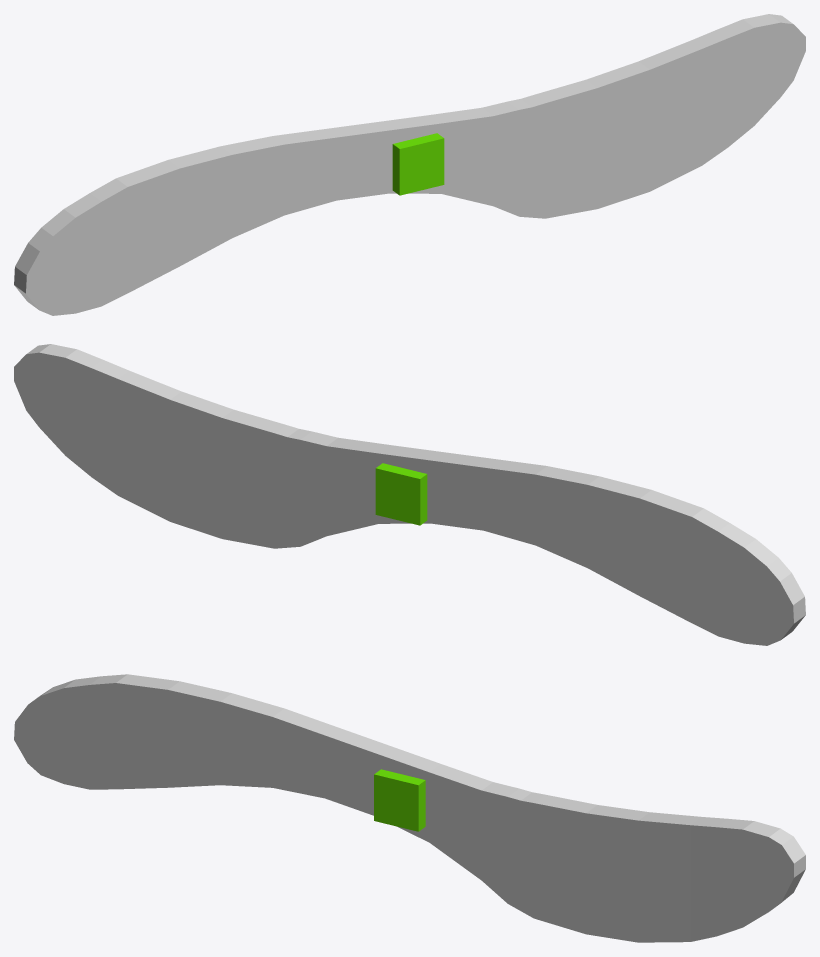
The model's file is fuck.glb.
3 views of the same model, one above another, from view 1: azimuth 30°, elevation 25°; view 2: azimuth 150°, elevation 25°; view 3: azimuth 330°, elevation 25° (orthographic).
Parts seen in each view (by area): view 1: Cube, Cube.001; view 2: Cube, Cube.001; view 3: Cube, Cube.001.
Part boxes in pixels (box(x1,y1,x2,y2)): Cube: box(14, 14, 805, 315); Cube.001: box(392, 133, 444, 195); Cube: box(14, 344, 805, 645); Cube.001: box(375, 463, 427, 525); Cube: box(14, 674, 805, 942); Cube.001: box(374, 769, 425, 831).
Bounding box in the file's own units: 4.86 × 0.8551 × 0.2775.
